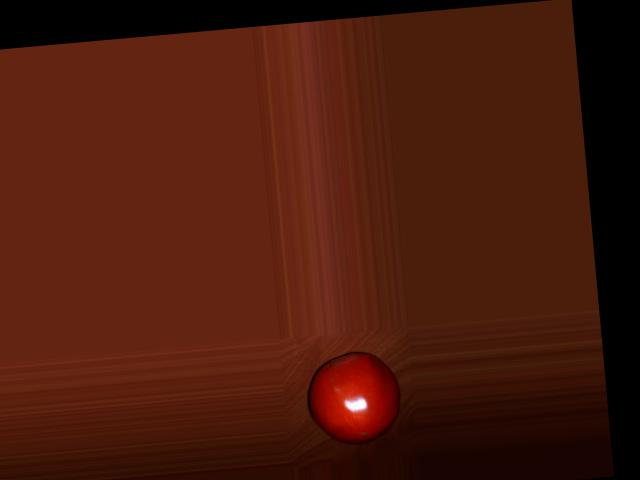tomato: (304, 348, 405, 448)
